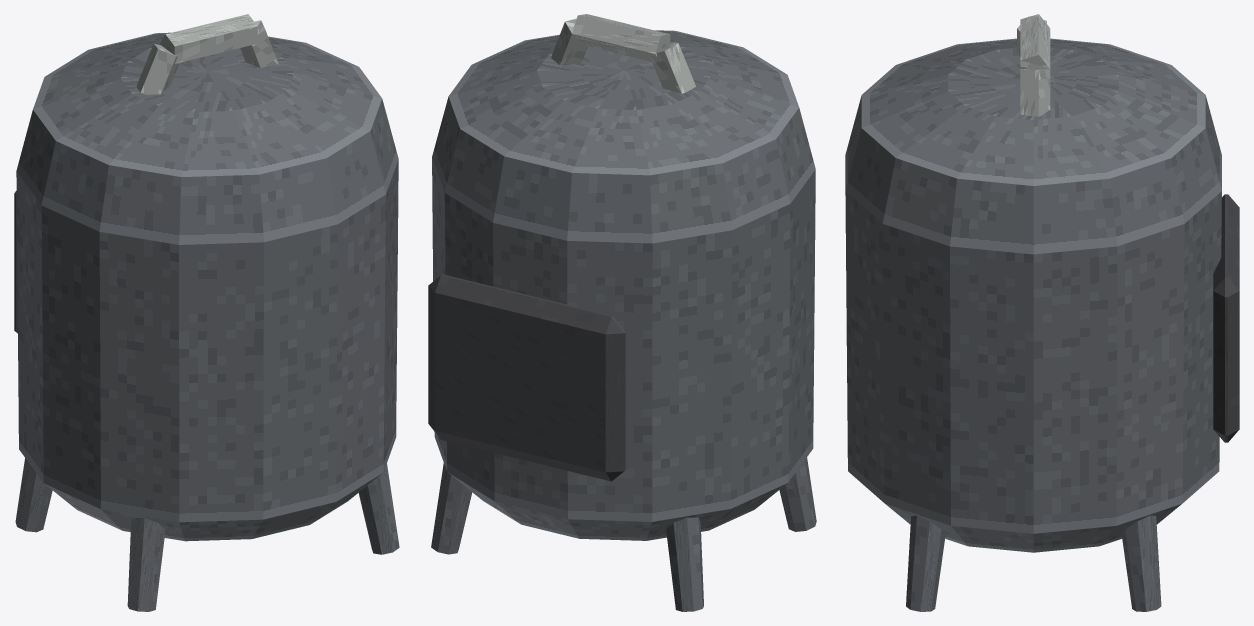
File: char_smoker.glb
The picture shows the model from 3 angles, left to right: view 1: azimuth 30°, elevation 25°; view 2: azimuth 150°, elevation 25°; view 3: azimuth 270°, elevation 25°; orthographic projection.
Parts seen in each view (by area): view 1: block_barrel smoker, block_smoker leg (×3), block_lid handle 1, block_lid handle 0, block_lid handle 2; view 2: block_barrel smoker, block_smoker door, block_smoker leg (×3), block_lid handle 1, block_lid handle 0, block_lid handle 2; view 3: block_barrel smoker, block_smoker leg (×2), block_smoker door, block_lid handle 1, block_lid handle 2.
Part boxes in pixels (box(x1,y1,x2,y2)): block_barrel smoker: box(16, 32, 398, 541); block_smoker leg (×3): box(15, 458, 399, 611); block_lid handle 1: box(159, 14, 257, 63); block_lid handle 0: box(136, 43, 179, 94); block_lid handle 2: box(240, 20, 278, 67); block_barrel smoker: box(432, 30, 815, 540); block_smoker door: box(428, 274, 625, 481); block_smoker leg (×3): box(431, 457, 816, 611); block_lid handle 1: box(572, 14, 670, 61); block_lid handle 0: box(649, 42, 695, 93); block_lid handle 2: box(551, 18, 587, 65); block_barrel smoker: box(845, 38, 1221, 552); block_smoker leg (×2): box(906, 515, 1161, 611); block_smoker door: box(1213, 194, 1239, 442); block_lid handle 1: box(1020, 14, 1050, 68); block_lid handle 2: box(1020, 69, 1050, 116).
Size of the model in its own units: 0.4064 by 0.6 by 0.4148.
Materials: 1 (1 with a texture image).
